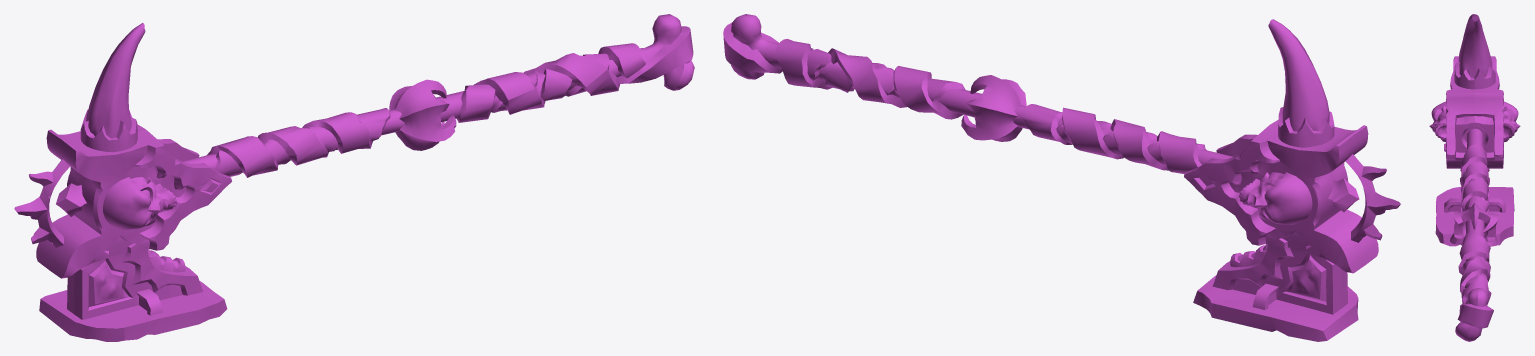
File: undead_hammer.obj
3 views of the same model, side by side, from view 1: azimuth 30°, elevation 25°; view 2: azimuth 150°, elevation 25°; view 3: azimuth 270°, elevation 25° (orthographic). The views are drawn at different scales.
Visible parts, largest first — view 1: SM_Undead_Hammer_1; view 2: SM_Undead_Hammer_1; view 3: SM_Undead_Hammer_1.
Part boxes in pixels (<box>): SM_Undead_Hammer_1: <box>14,14,694,341</box>; SM_Undead_Hammer_1: <box>723,14,1400,341</box>; SM_Undead_Hammer_1: <box>1429,14,1520,341</box>.
Size of the model in its own units: 1.58 by 0.6627 by 0.2543.
